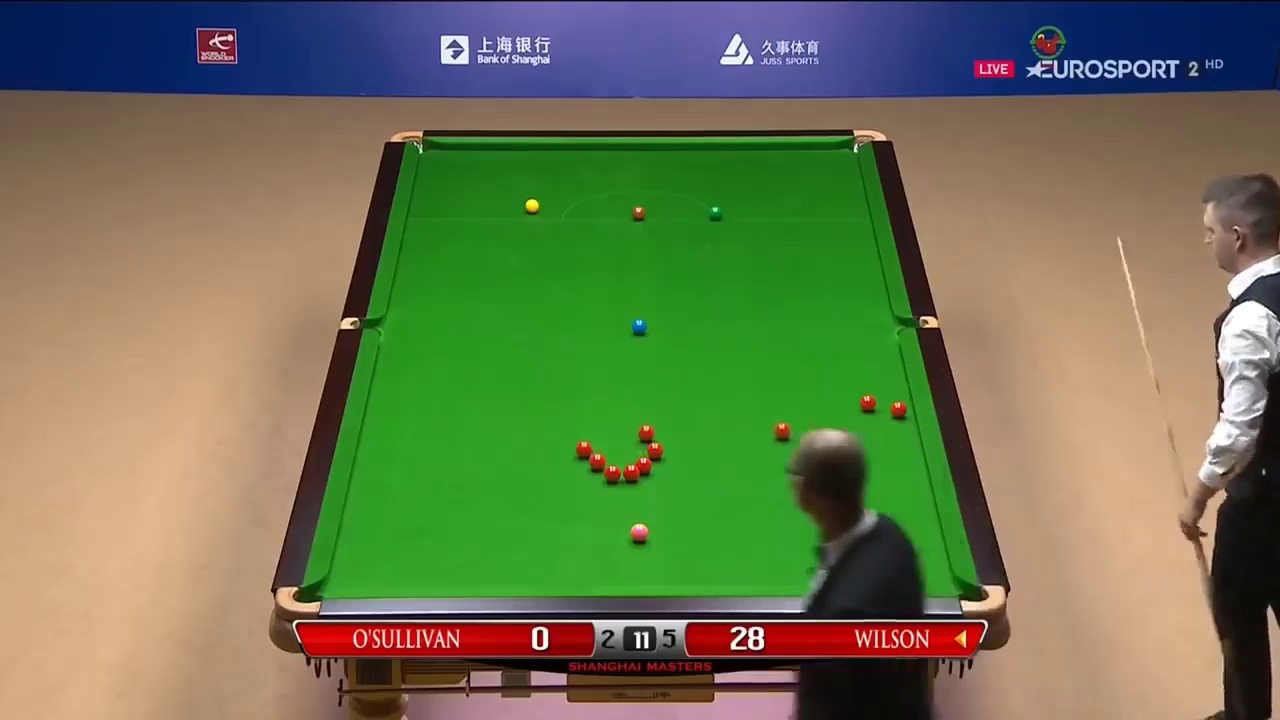ball: (626, 519, 652, 543), (773, 422, 794, 441), (521, 195, 540, 214), (630, 318, 651, 335), (637, 423, 658, 440), (858, 394, 876, 413), (706, 203, 724, 220), (892, 399, 907, 417), (631, 204, 647, 220)
